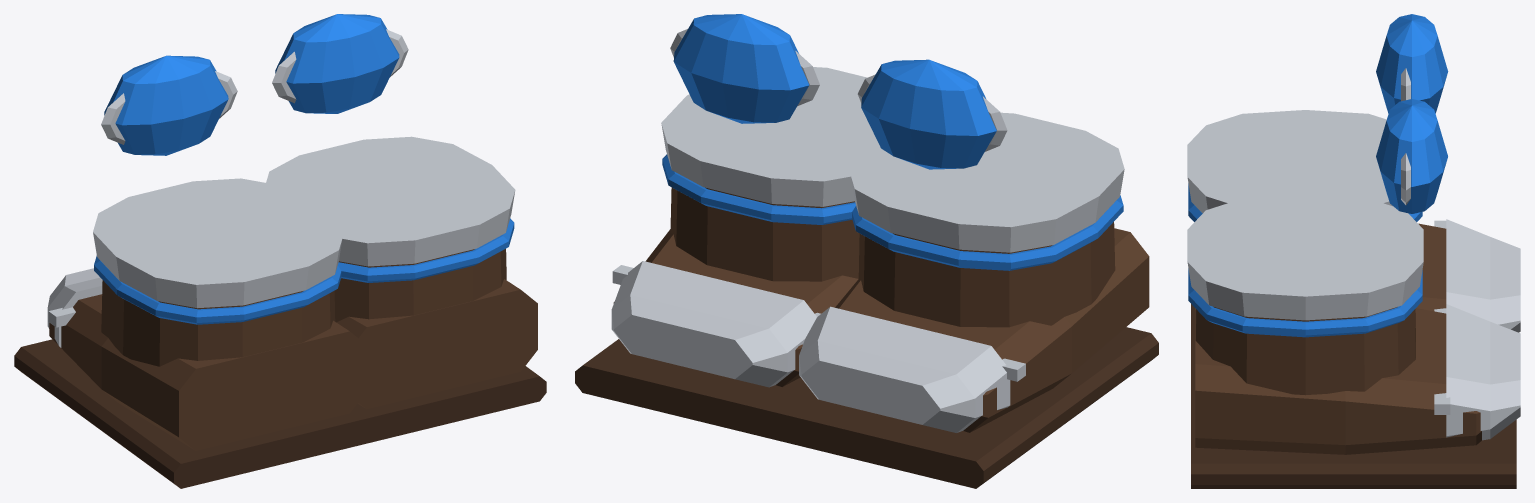
Rendered from look3_shoes_healer_rare.fbx.
3 views of the same model, side by side, from view 1: azimuth 30°, elevation 25°; view 2: azimuth 150°, elevation 25°; view 3: azimuth 270°, elevation 25° (orthographic). The views are drawn at different scales.
Visible parts, largest first — view 1: Greave_L, Greave_R, Boot_L, Boot_R; view 2: Greave_L, Boot_L, Greave_R, Boot_R; view 3: Greave_R, Boot_R, Greave_L, Boot_L.
Part boxes in pixels (x1,y1,x2,y2): Greave_L: (93,55,342,366); Greave_R: (264,14,515,322); Boot_L: (14,268,375,488); Boot_R: (336,279,546,446); Greave_L: (849,59,1124,327); Boot_L: (764,228,1158,488); Greave_R: (661,14,896,281); Boot_R: (575,229,858,439); Greave_R: (1187,99,1447,395); Boot_R: (1191,304,1520,488); Greave_L: (1187,14,1448,221); Boot_L: (1191,219,1520,378).
Bounding box in the file's own units: 220 × 185 × 166.
